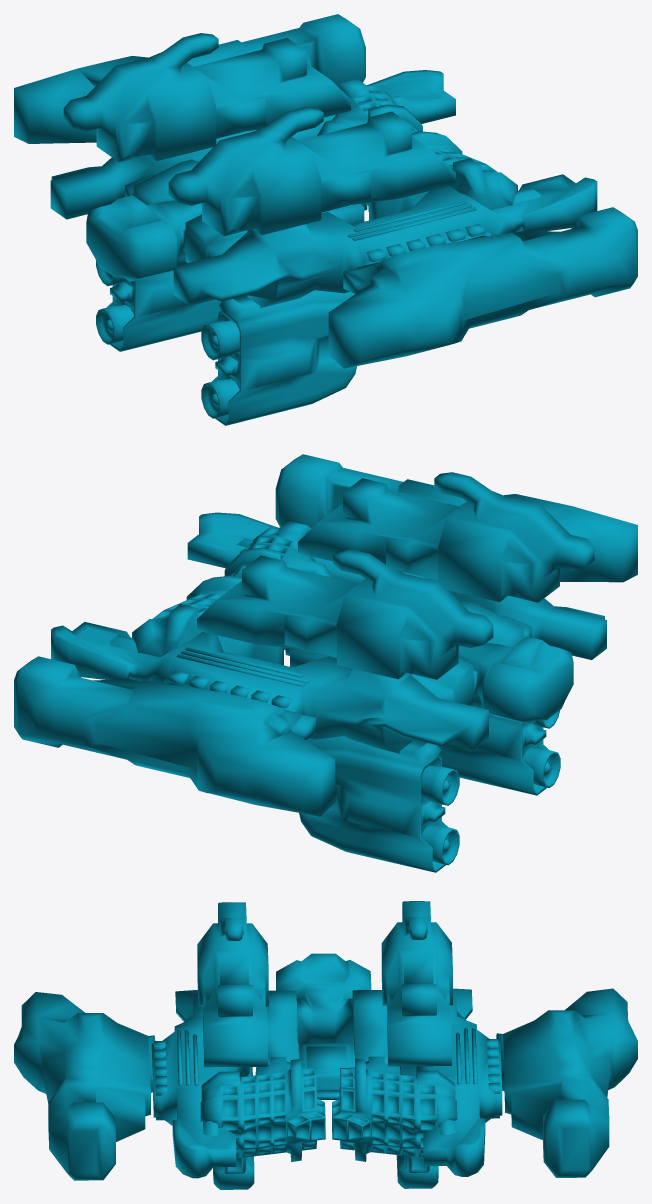
File: ship17_blue.glb
3 views of the same model, one above another, from view 1: azimuth 30°, elevation 25°; view 2: azimuth 150°, elevation 25°; view 3: azimuth 270°, elevation 25° (orthographic). The views are drawn at different scales.
Parts seen in each view (by area): view 1: ME_ship_IndexedFaceSet; view 2: ME_ship_IndexedFaceSet; view 3: ME_ship_IndexedFaceSet.
Boxes of the visible parts, x1,y1,x2,y2 form: ME_ship_IndexedFaceSet: (14, 14, 637, 425); ME_ship_IndexedFaceSet: (14, 454, 637, 872); ME_ship_IndexedFaceSet: (14, 901, 637, 1189).
Size of the model in its own units: 314 by 205 by 449.
